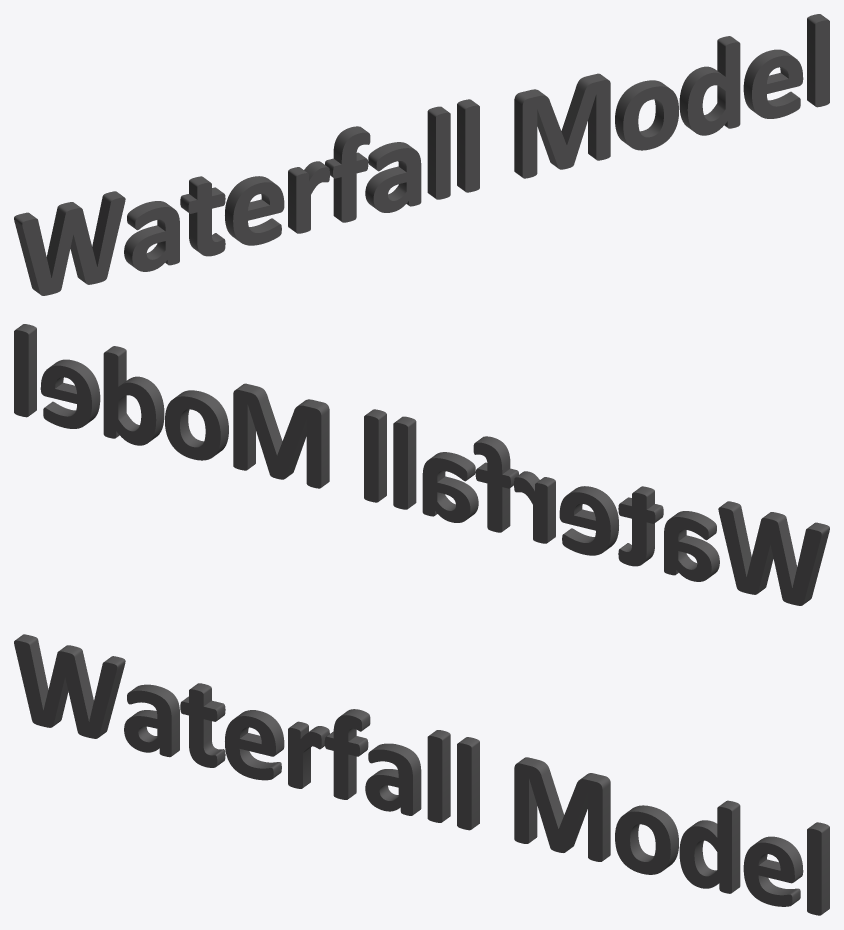
File: Title.fbx
The picture shows the model from 3 angles, top to bottom: view 1: azimuth 30°, elevation 25°; view 2: azimuth 150°, elevation 25°; view 3: azimuth 330°, elevation 25°; orthographic projection.
Visible parts, largest first — view 1: node_id5; view 2: node_id5; view 3: node_id5.
Part boxes in pixels (x1=…): node_id5: x1=14, y1=14, x2=829, y2=295; node_id5: x1=14, y1=324, x2=829, y2=605; node_id5: x1=14, y1=634, x2=829, y2=915.
Bounding box in the file's own units: 1.45 × 0.1498 × 0.0259.
1 material, 1 textured.
